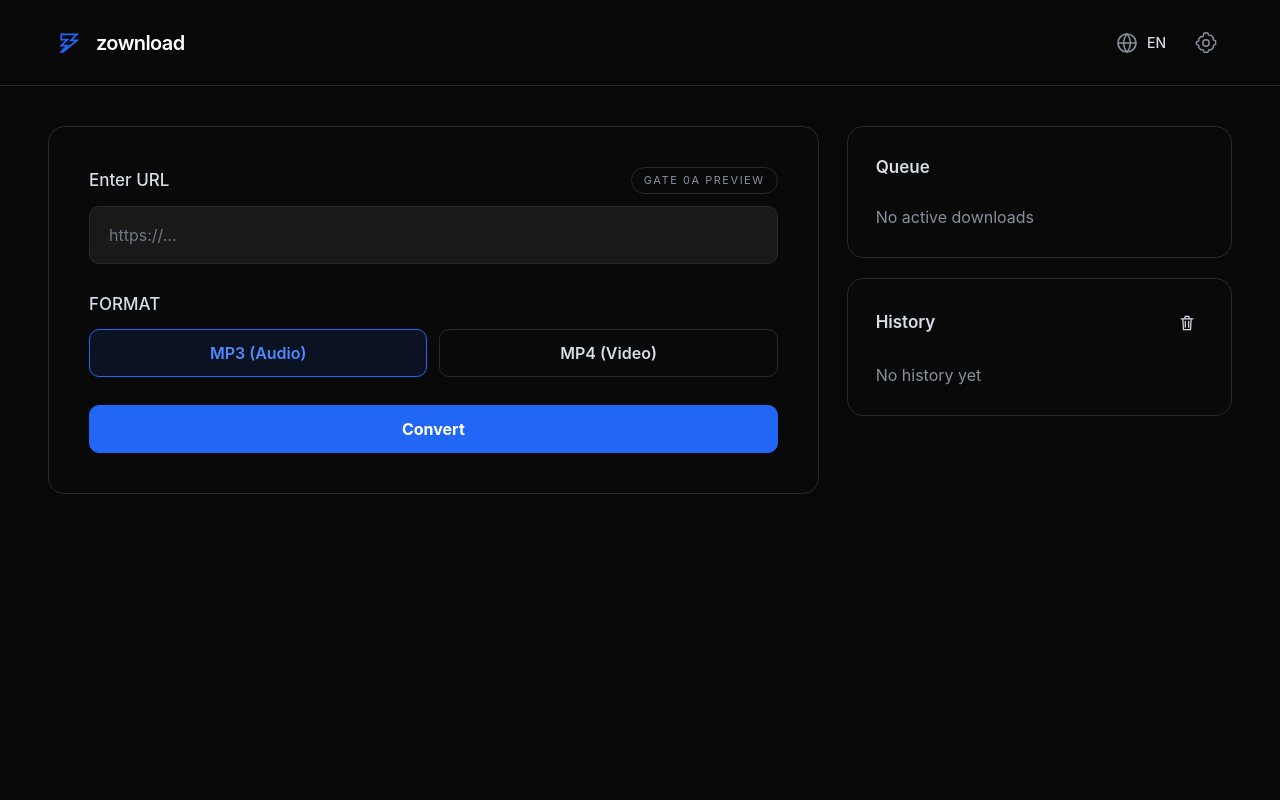
it: Gate 0A preview shell › keeps the convert action inside the preview and opens/closes settings
Click the button "Convert".
click(433, 429)  # box [89, 405, 778, 453]
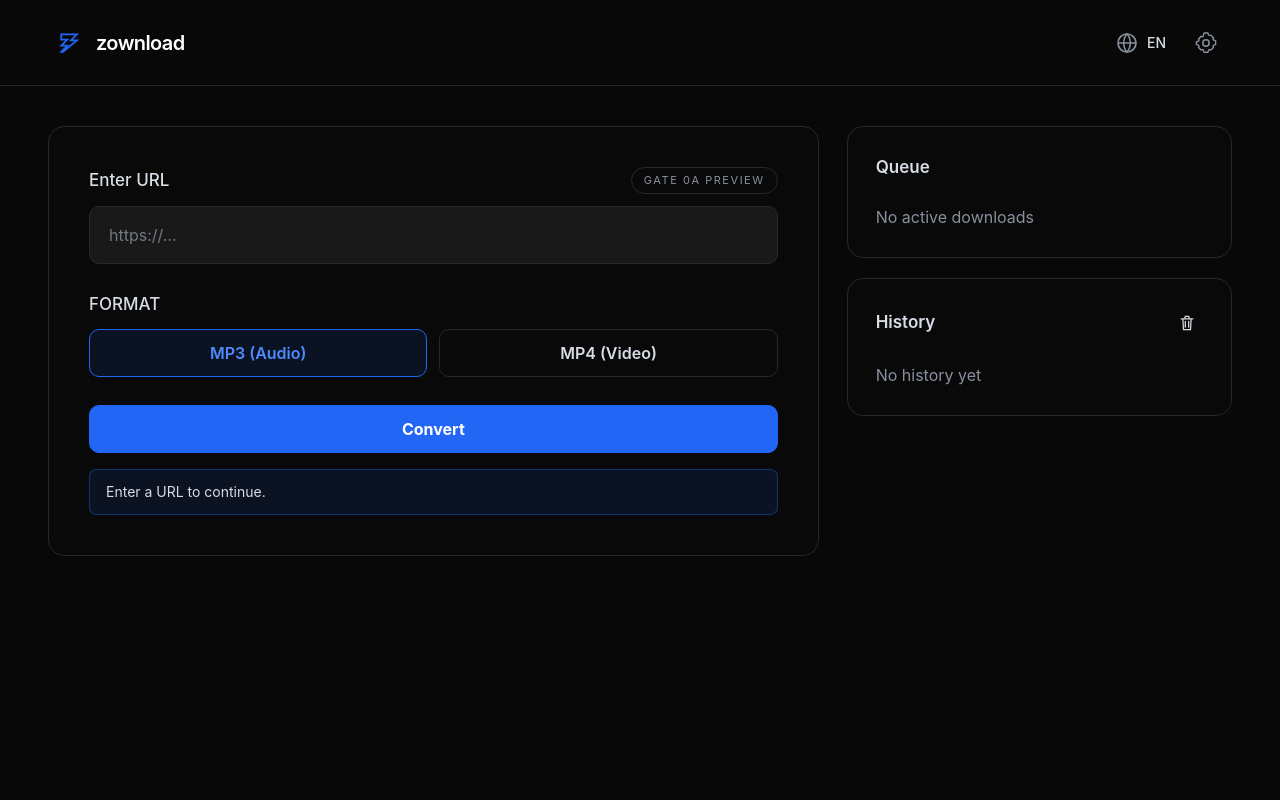
Now the message shows "Enter a URL", box [106, 483, 266, 500]
Click the button named "settings".
click(1206, 42)  # box [1188, 24, 1224, 60]
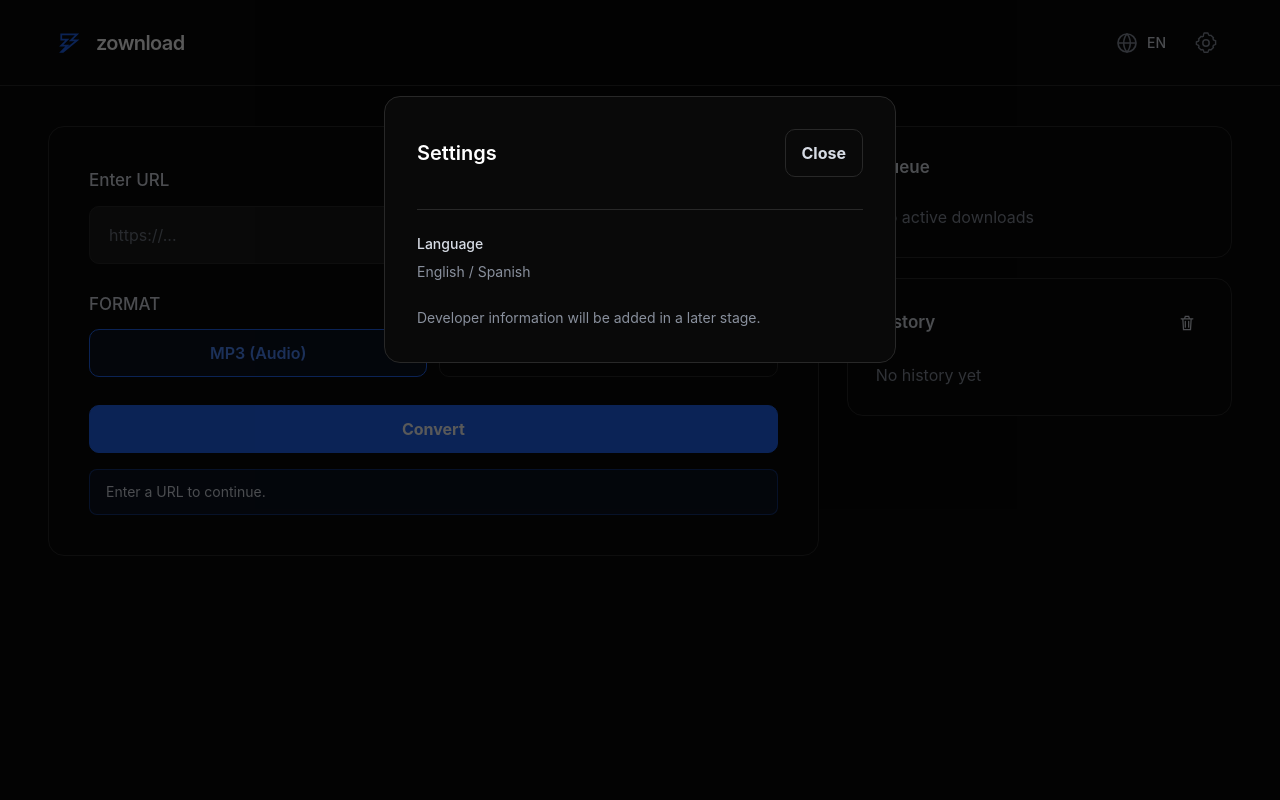
Now the dialog is shown
Click the button "Close".
click(824, 153)  # box [784, 129, 863, 177]
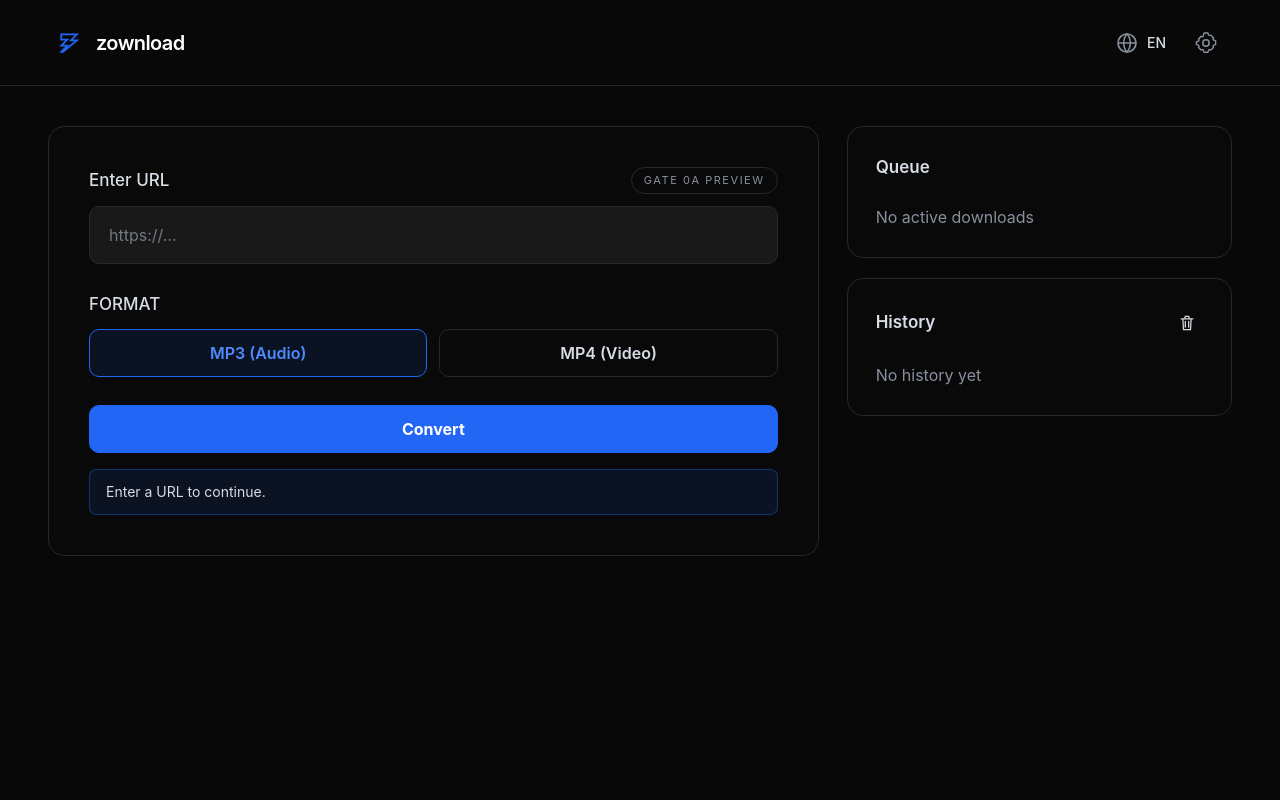
Now the dialog is gone
